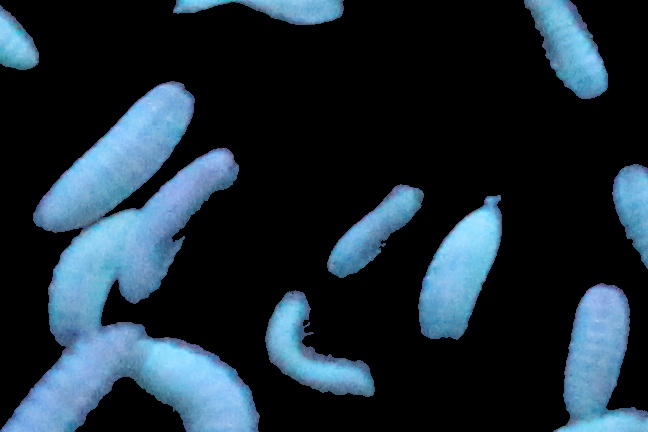larvae: (42, 84, 186, 225), (116, 147, 241, 304), (1, 323, 142, 432), (129, 337, 267, 432), (423, 197, 508, 345), (265, 301, 375, 402), (49, 212, 131, 344), (523, 1, 610, 99), (331, 177, 420, 268), (565, 287, 629, 410), (165, 1, 348, 28), (611, 159, 648, 276), (1, 1, 41, 71)
